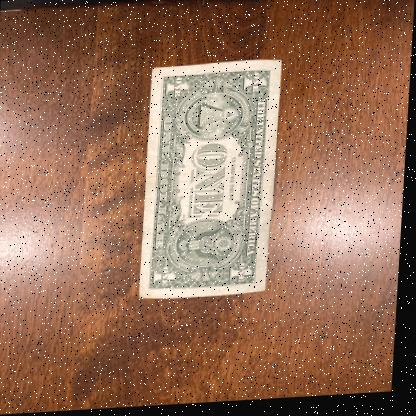one-back: (139, 60, 282, 302)
